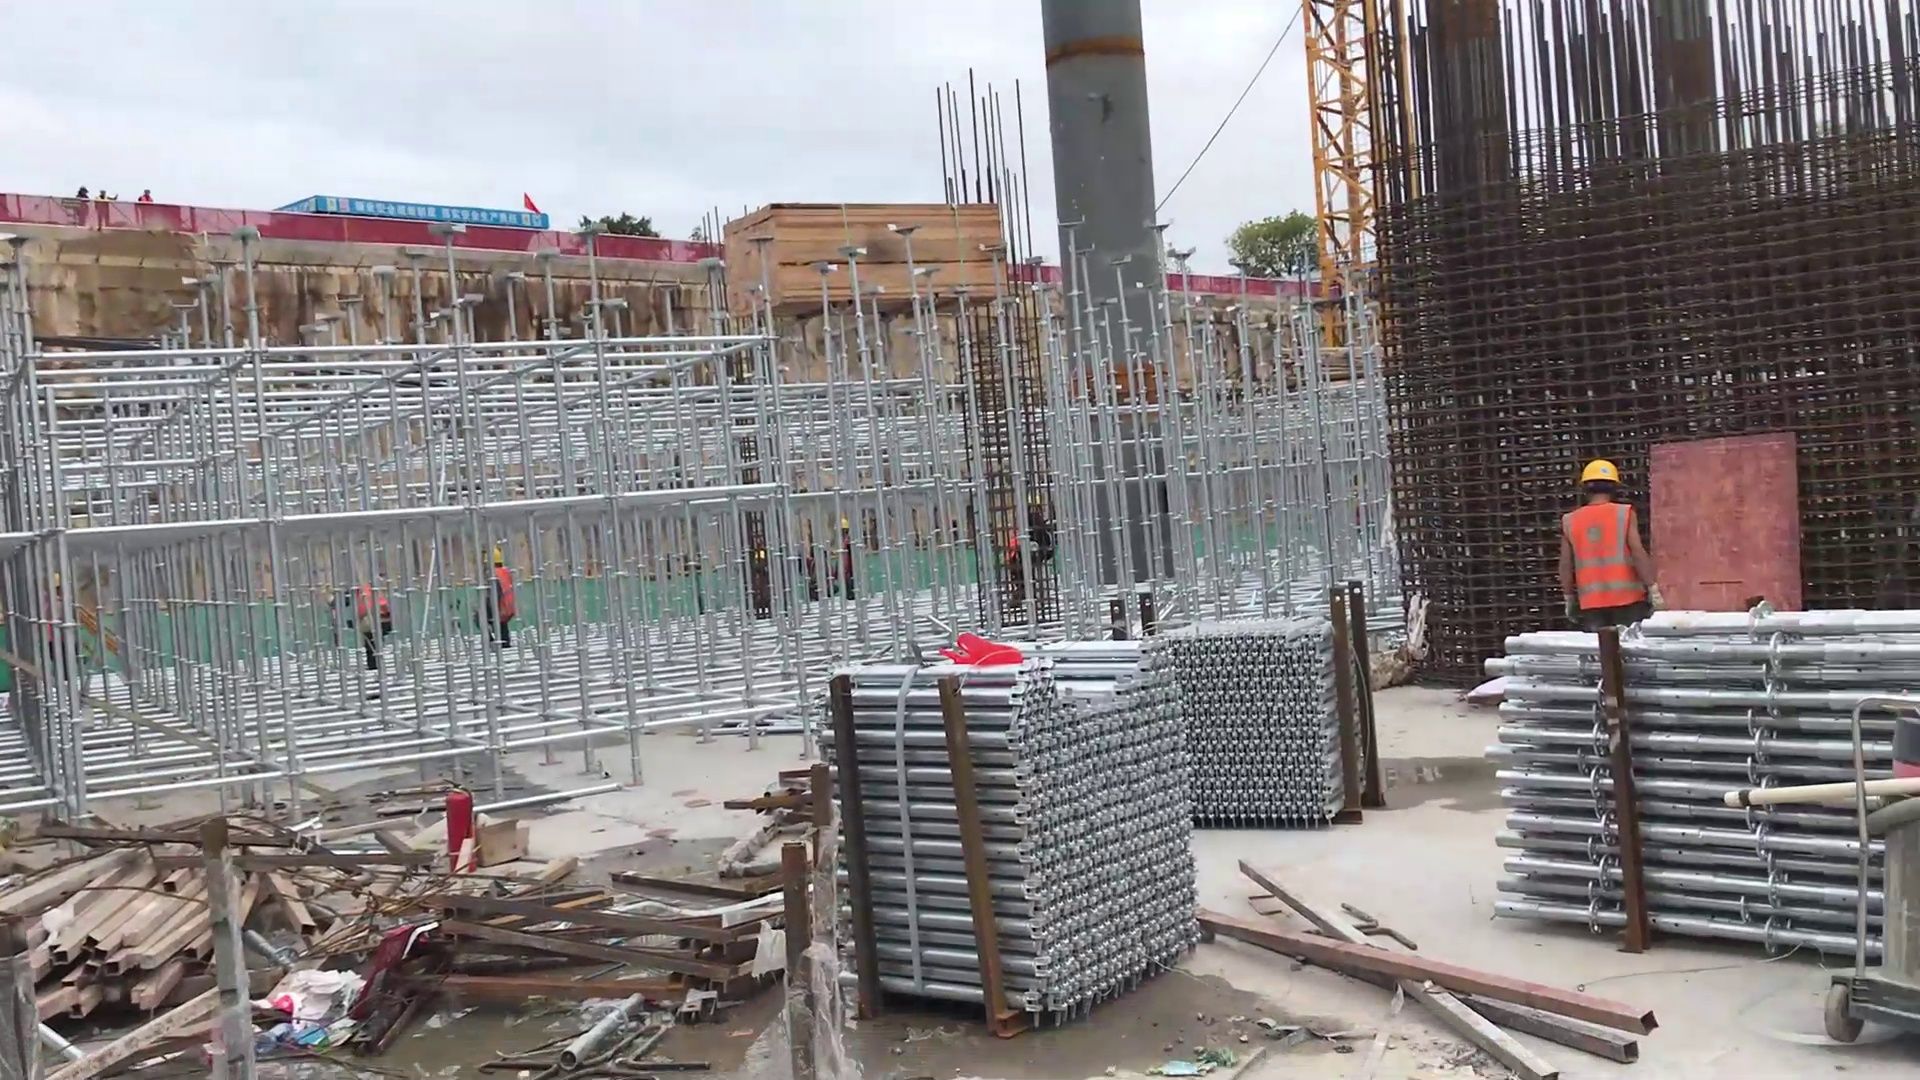helmet: (1576, 459, 1623, 485)
person: (1556, 449, 1670, 627), (321, 582, 406, 692), (473, 545, 518, 650)
scaffold: (1478, 592, 1918, 970), (830, 633, 1214, 1033), (1160, 615, 1371, 844)
slogan: (301, 195, 554, 234)
vest: (1554, 505, 1659, 616)
wood: (717, 190, 1028, 327)
